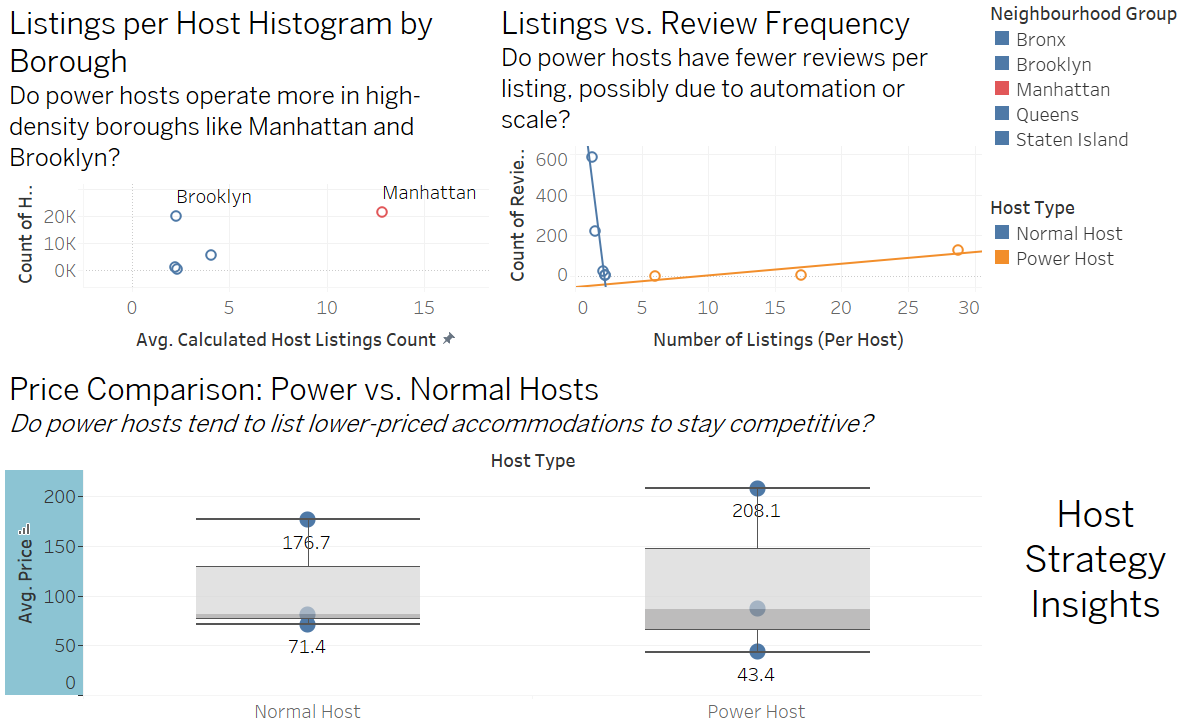

What the dashboard file says about the page in this screenshot:
{"tool":"tableau","page":{"name":"Dashboard 3","canvas":[1000,1000],"units":"permille","ordinal":2},"visuals":[{"type":"worksheet","title":"Sheet 6","mark":"Automatic","rows":["number_of_reviews"],"cols":["price"],"box":[6.1,10.7,812.1,489.3]},{"type":"legend","title":"Sheet 6","param":"[federated.0ehuq190u02xrj1abzuu80uqy7lj].[none:room_type:nk]","box":[818.2,10.7,175.8,255.7]},{"type":"legend","title":"Sheet 6","param":"[federated.0ehuq190u02xrj1abzuu80uqy7lj].[none:room_type:nk]","box":[818.2,266.4,175.8,453.8]},{"type":"worksheet","title":"Sheet 7","mark":"Automatic","rows":["reviews_per_month"],"cols":["room_type"],"box":[6.1,500,812.1,489.3]},{"type":"text","box":[818.2,720.2,175.8,235.6]}]}

Visuals, with their boxes on the dashboard's canvas, which has no fixed pixel size, in thousandths of its width and height (x1, y1, x2, y2). These are canvas units, not pixel positions in the 1194x727 screenshot, which may show the page scaled, cropped or inside an application window:
"Sheet 6" worksheet: region(6, 11, 818, 500)
"Sheet 6" legend: region(818, 11, 994, 266)
"Sheet 6" legend: region(818, 266, 994, 720)
"Sheet 7" worksheet: region(6, 500, 818, 989)
text: region(818, 720, 994, 956)
